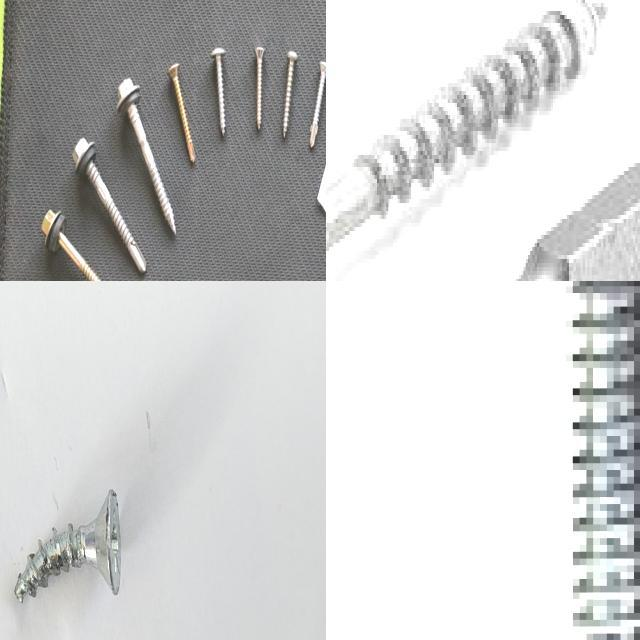Screw: (326, 0, 608, 260), (566, 281, 640, 640), (15, 489, 121, 601), (72, 138, 146, 272), (116, 77, 176, 233), (40, 209, 102, 281), (168, 63, 195, 163), (310, 60, 326, 147), (283, 50, 298, 137), (211, 46, 225, 135), (255, 46, 265, 129)
